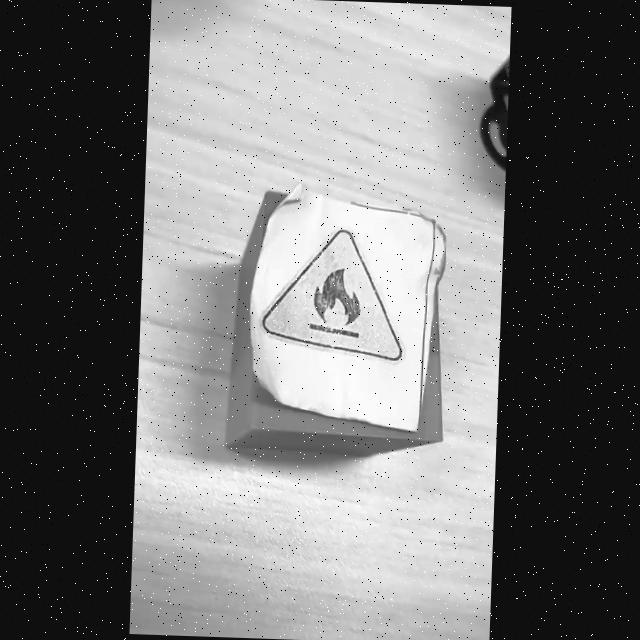Fire: (261, 230, 401, 362)
